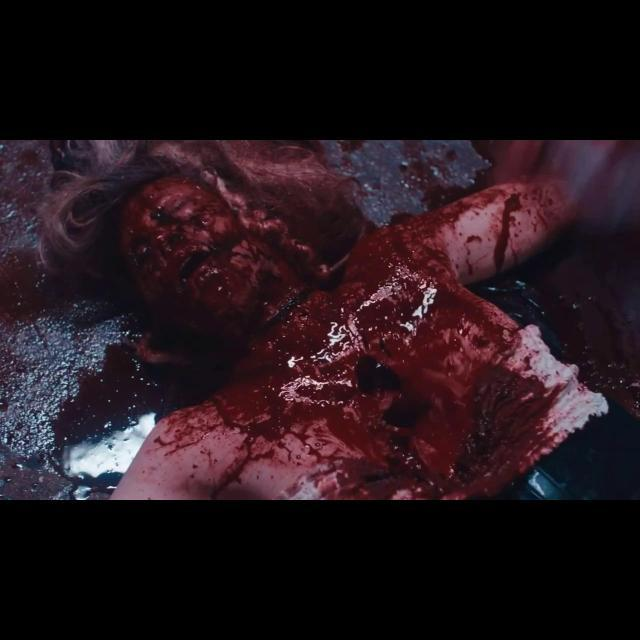blood: (0, 140, 640, 499)
